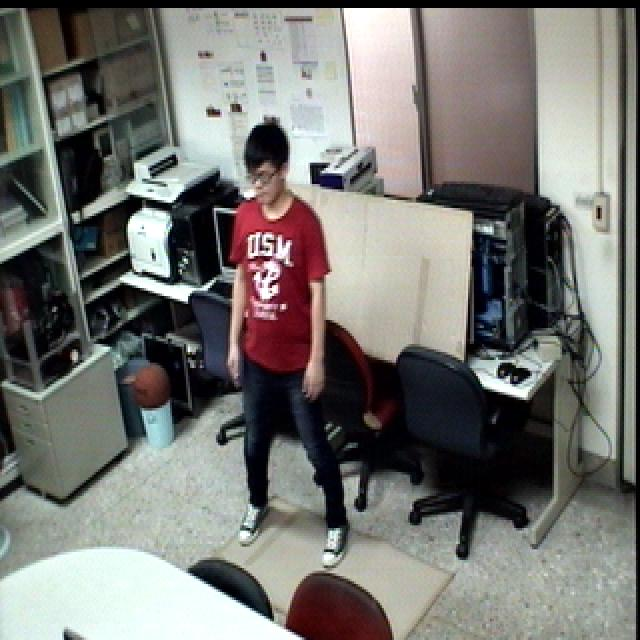stand: (216, 118, 349, 571)
